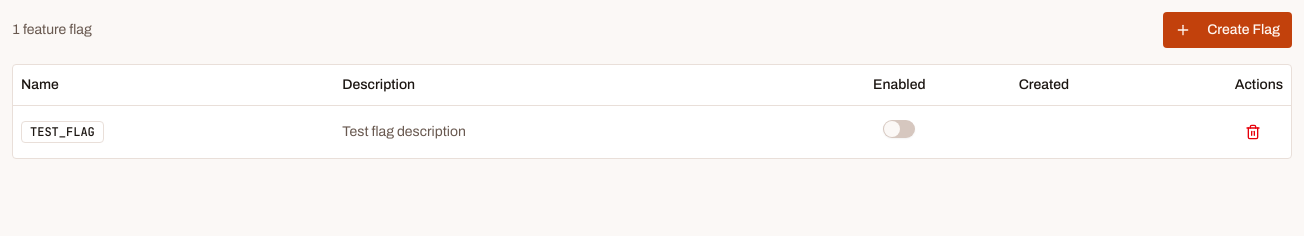
Test case: components/admin/feature-flag-list › toggle functionality › should display error message on toggle failure
The width and height of the screenshot is (1304, 236).
Click the switch named "Toggle TEST_FLAG".
click(899, 129)  # box [883,120,915,138]
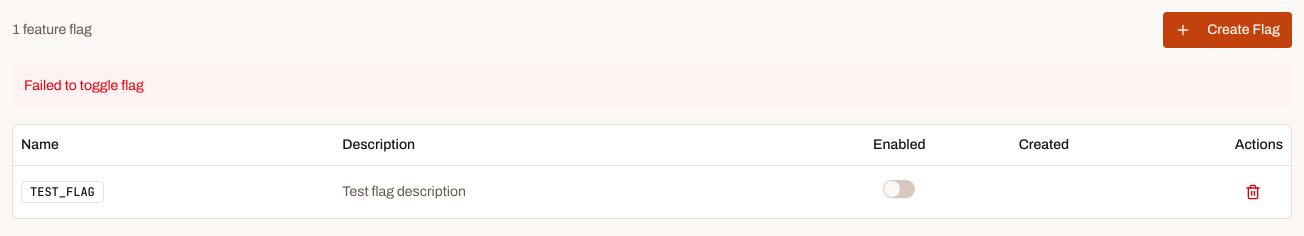
Result: the text "Failed to toggle flag" is shown at [12,64,1292,108]
